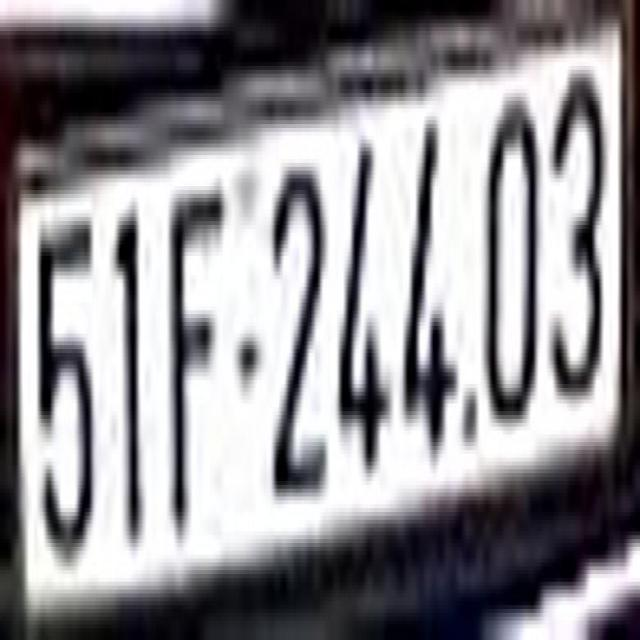0: (480, 93, 540, 438)
1: (112, 198, 146, 566)
2: (269, 155, 329, 508)
3: (551, 70, 603, 411)
4: (334, 136, 393, 500), (402, 116, 457, 454)
5: (34, 202, 98, 562)
F: (167, 178, 224, 520)
